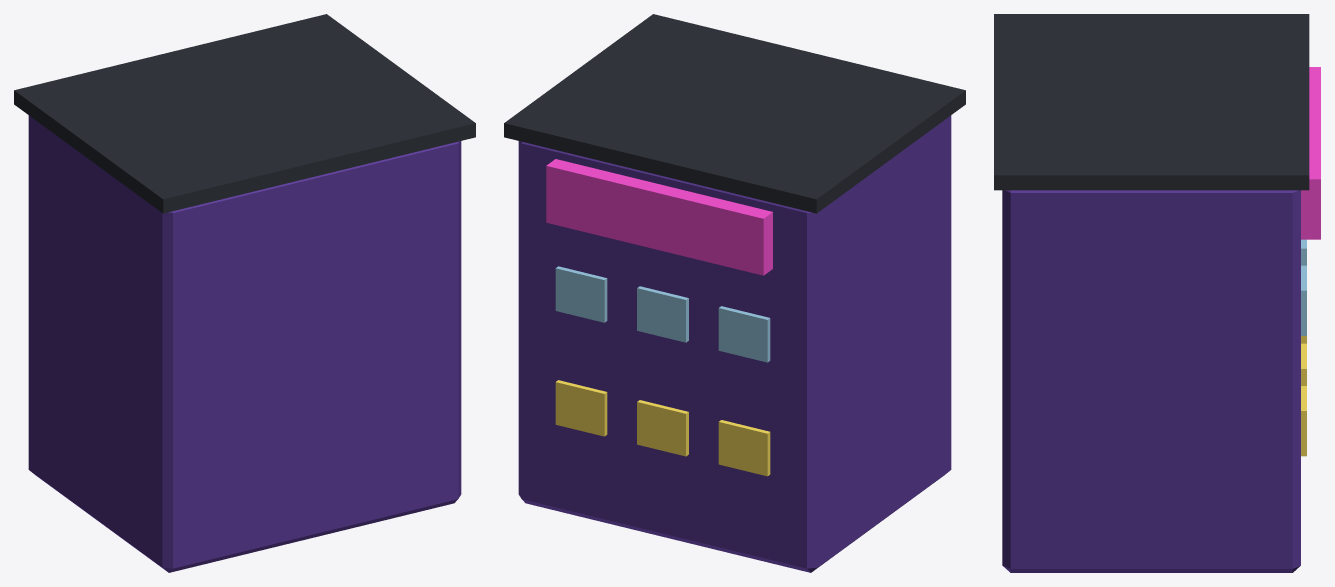
Rendered from neon_block.glb.
The picture shows the model from 3 angles, left to right: view 1: azimuth 30°, elevation 25°; view 2: azimuth 150°, elevation 25°; view 3: azimuth 270°, elevation 25°; orthographic projection. The views are drawn at different scales.
Visible parts, largest first — view 1: neon_block; view 2: neon_block; view 3: neon_block.
Part boxes in pixels (left/top/right/bottom): neon_block: left=14, top=14, right=475, bottom=572; neon_block: left=504, top=14, right=965, bottom=572; neon_block: left=994, top=14, right=1320, bottom=572.
Bounding box in the file's own units: 2.3 × 2.69 × 1.97.
1 material, 1 textured.
